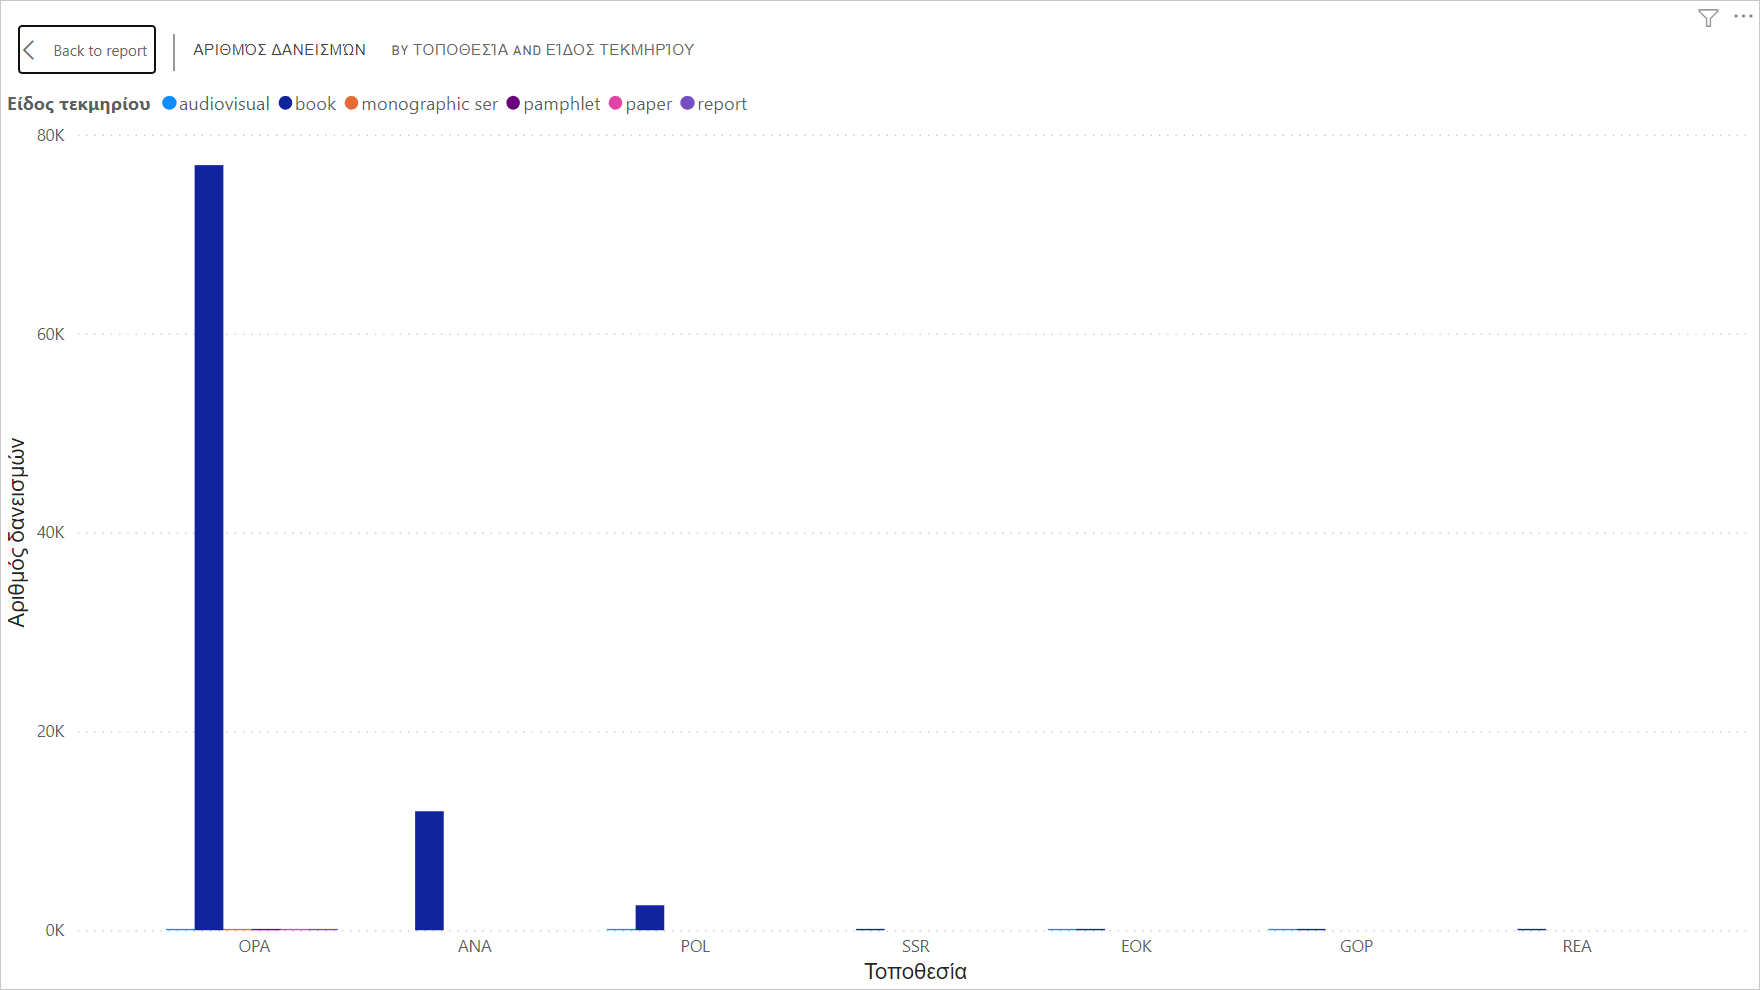

The dashboard page shown, as its layout file describes it:
{"tool":"powerbi","page":{"name":"Q2","canvas":[1280,720],"ordinal":1},"visuals":[{"type":"clusteredColumnChart","fields":{"Y":["CountNonNull(LoanedBooks.lb_id)"],"Category":["CopyLocations.copyloc"],"Series":["BookMaterials.material"]},"box":[272,134,737,451],"z":0}]}

Visuals, with their boxes on the page's 1280x720 design canvas (x1, y1, x2, y2). These are canvas units, not pixel positions in the 1760x990 screenshot, which may show the page scaled, cropped or inside an application window:
clusteredColumnChart - CountNonNull(LoanedBooks.lb_id) x CopyLocations.copyloc: x1=272 y1=134 x2=1009 y2=585
